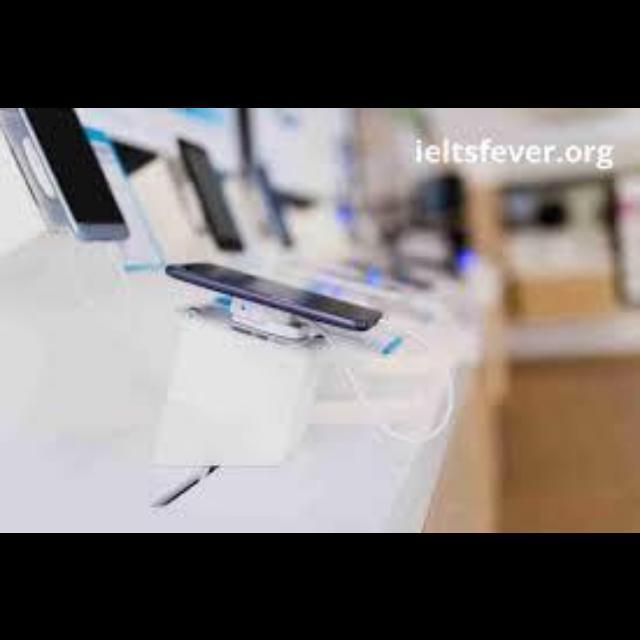phone: (149, 239, 415, 370), (1, 100, 138, 240), (157, 134, 253, 254)
